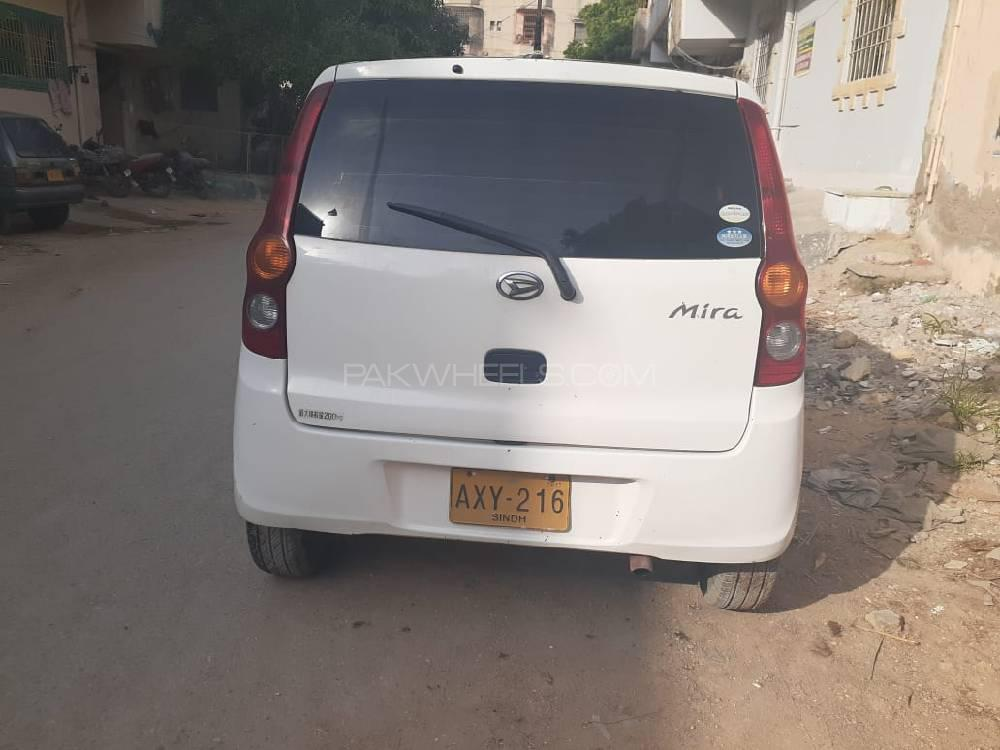license plate: (451, 472, 567, 523)
